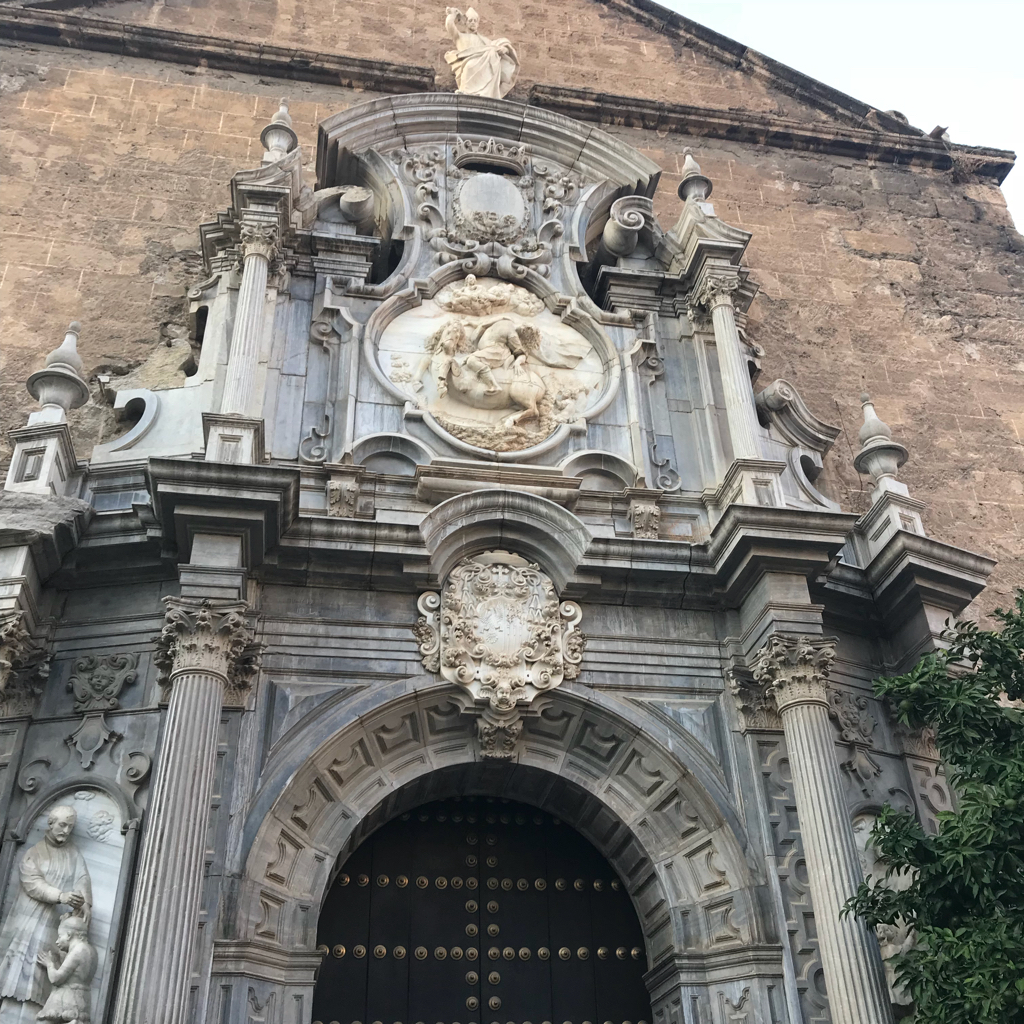arco-medio-punto: (295, 749, 691, 997)
